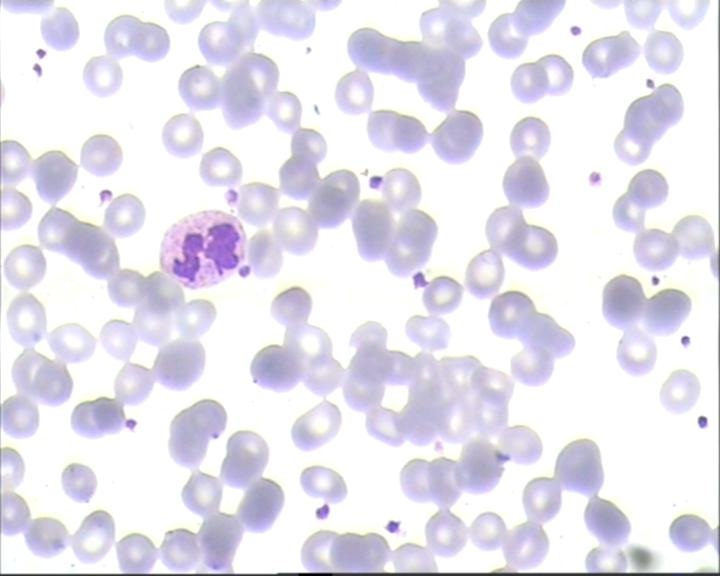neut: (156, 206, 246, 290)
